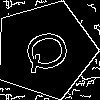Q: (20, 24, 81, 76)
